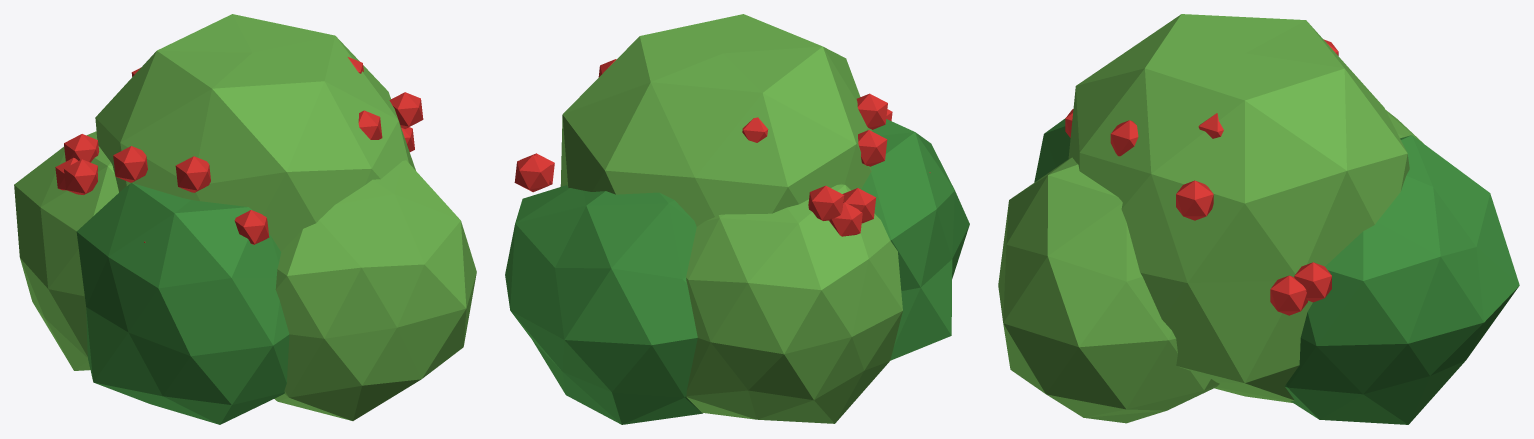
File: nat_bush_b_v01.glb
The picture shows the model from 3 angles, left to right: view 1: azimuth 30°, elevation 25°; view 2: azimuth 150°, elevation 25°; view 3: azimuth 270°, elevation 25°; orthographic projection. The views are drawn at different scales.
Visible parts, largest first — view 1: bush; view 2: bush; view 3: bush.
Part boxes in pixels (x1,y1,x2,y2): bush: [14, 14, 476, 424]; bush: [505, 14, 969, 424]; bush: [998, 14, 1519, 424].
Bounding box in the file's own units: 1.05 × 0.8847 × 1.17.
